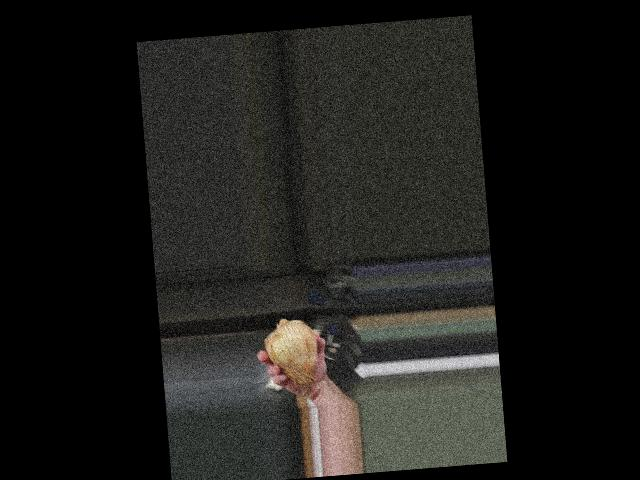onion: (263, 317, 321, 385)
